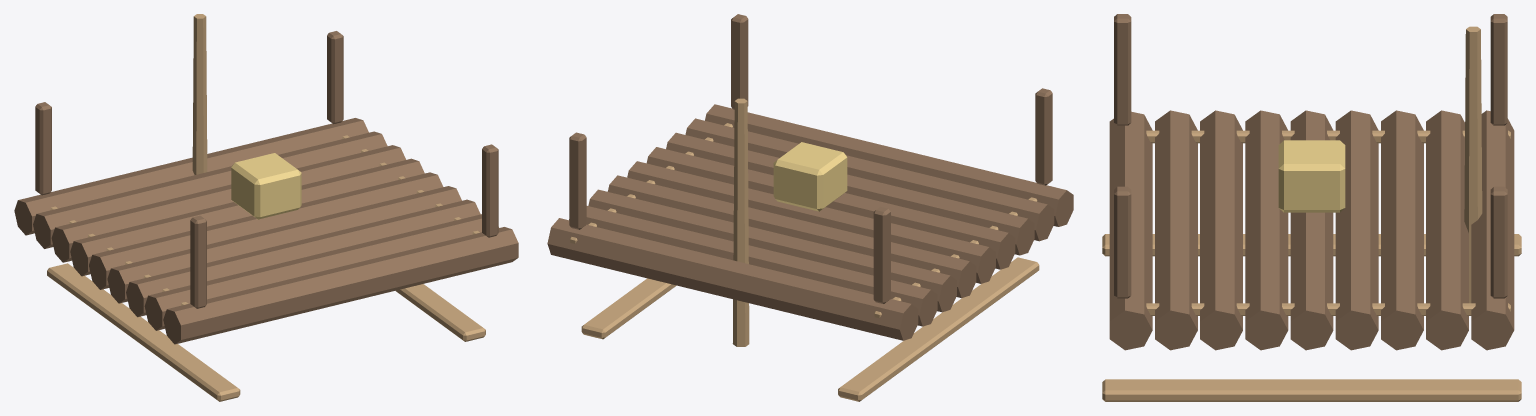
The model's file is town_ferry_raft.glb.
3 views of the same model, side by side, from view 1: azimuth 30°, elevation 25°; view 2: azimuth 150°, elevation 25°; view 3: azimuth 270°, elevation 25° (orthographic). The views are drawn at different scales.
Visible parts, largest first — view 1: world; view 2: world; view 3: world.
Part boxes in pixels (x1,y1,x2,y2): world: (14,14,518,401); world: (547,14,1073,401); world: (1102,14,1521,401).
Size of the model in its own units: 2 by 1.37 by 1.77.
